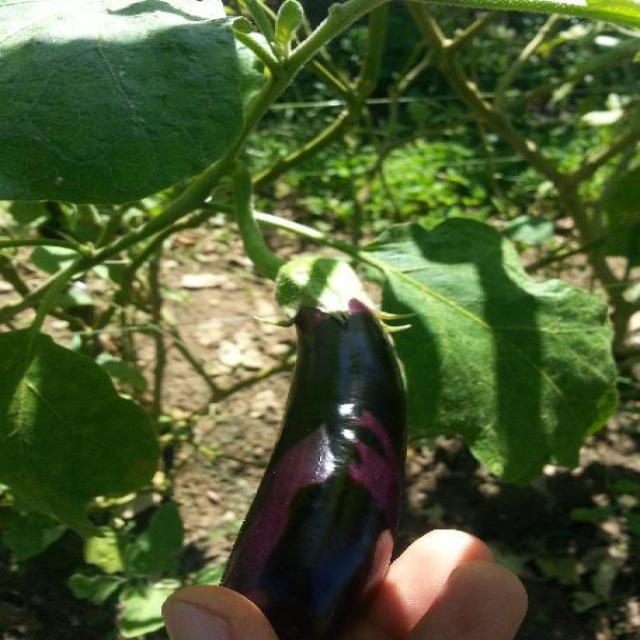eggplant: (221, 250, 421, 640)
